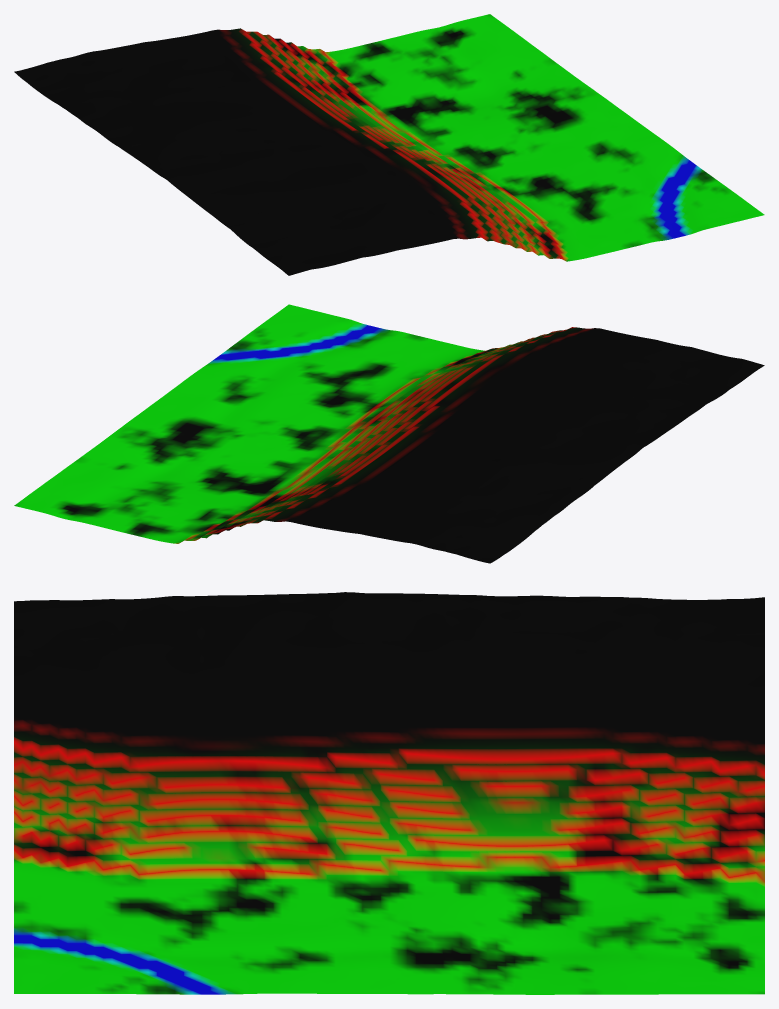
The model's file is SM_RiyadhNights_Terrain_2_0.fbx.
The picture shows the model from 3 angles, top to bottom: view 1: azimuth 30°, elevation 25°; view 2: azimuth 150°, elevation 25°; view 3: azimuth 270°, elevation 25°; orthographic projection. The views are drawn at different scales.
Visible parts, largest first — view 1: SM_RiyadhNights_Terrain_2_0; view 2: SM_RiyadhNights_Terrain_2_0; view 3: SM_RiyadhNights_Terrain_2_0.
Part boxes in pixels (x1,y1,x2,y2): SM_RiyadhNights_Terrain_2_0: (14,14,764,275); SM_RiyadhNights_Terrain_2_0: (14,304,764,563); SM_RiyadhNights_Terrain_2_0: (14,592,764,994).
Size of the model in its own units: 50400 by 6809 by 50400.
